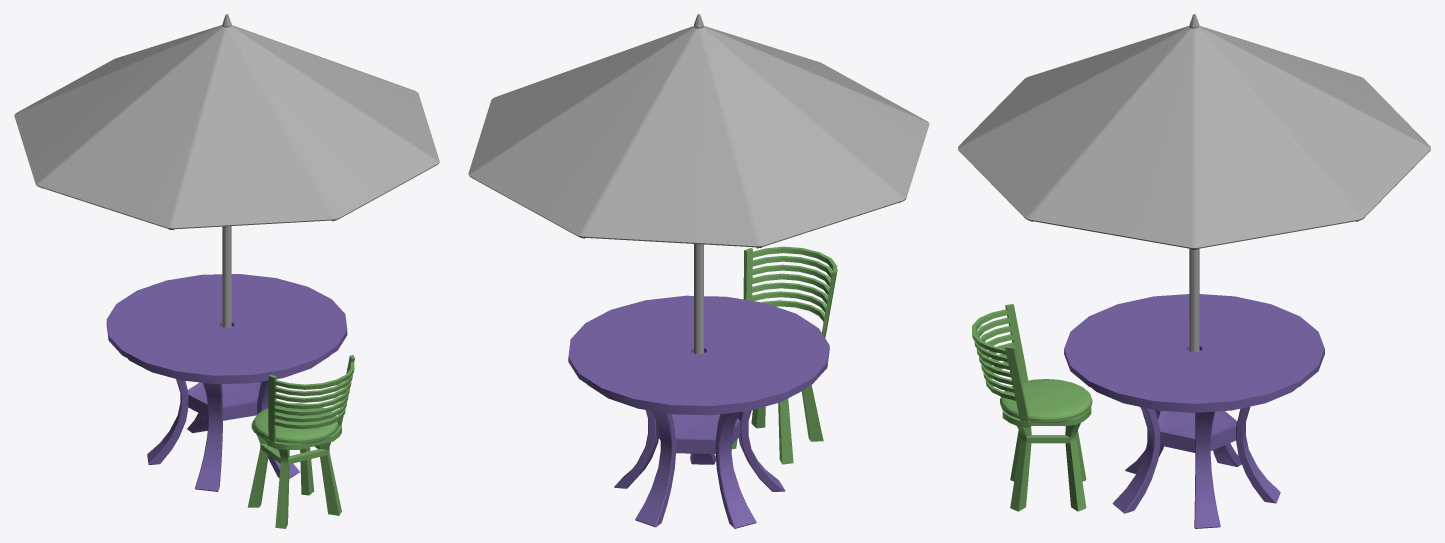
The model's file is tableset.fbx.
The picture shows the model from 3 angles, left to right: view 1: azimuth 30°, elevation 25°; view 2: azimuth 150°, elevation 25°; view 3: azimuth 270°, elevation 25°; orthographic projection. The views are drawn at different scales.
Parts seen in each view (by area): view 1: pCone2, pCylinder7, pCylinder9; view 2: pCone2, pCylinder7, pCylinder9; view 3: pCone2, pCylinder7, pCylinder9.
Part boxes in pixels (x1=…): pCone2: x1=14, y1=14, x2=439, y2=327; pCylinder7: x1=106, y1=274, x2=347, y2=491; pCylinder9: x1=247, y1=355, x2=354, y2=528; pCone2: x1=468, y1=14, x2=929, y2=354; pCylinder7: x1=568, y1=295, x2=829, y2=528; pCylinder9: x1=731, y1=246, x2=837, y2=464; pCone2: x1=958, y1=14, x2=1430, y2=351; pCylinder7: x1=1064, y1=294, x2=1324, y2=528; pCylinder9: x1=972, y1=304, x2=1092, y2=511.
Bounding box in the file's own units: 18.87 × 21.12 × 18.87.
